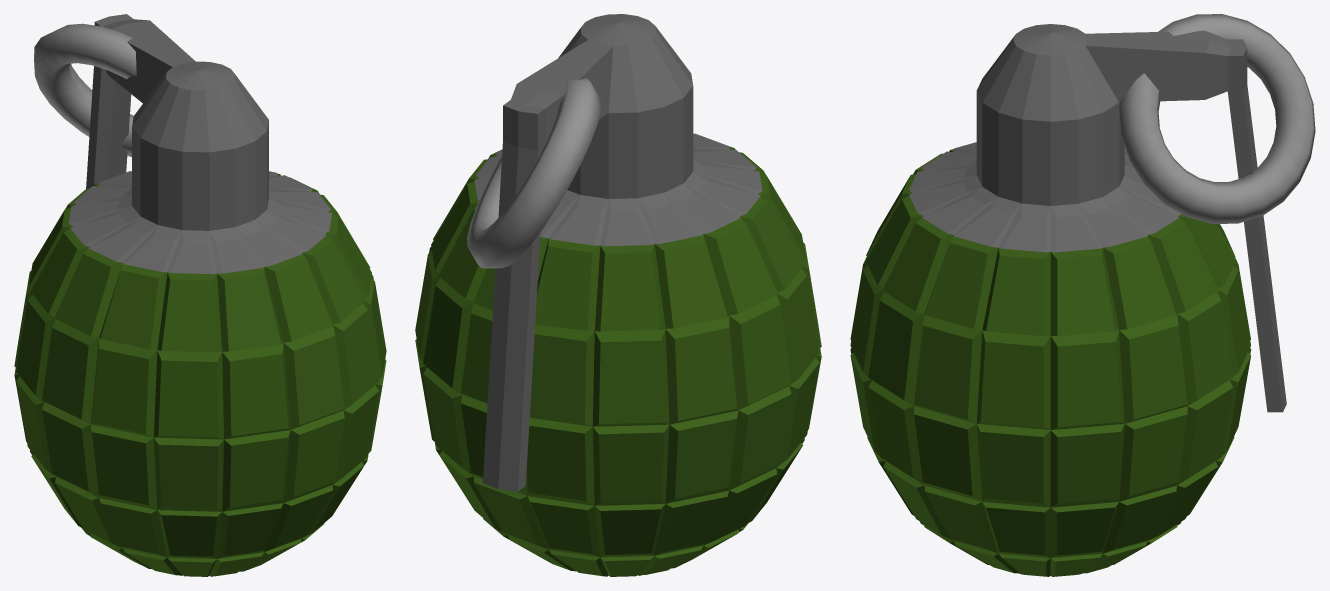
The model's file is grenade.glb.
The picture shows the model from 3 angles, left to right: view 1: azimuth 30°, elevation 25°; view 2: azimuth 150°, elevation 25°; view 3: azimuth 270°, elevation 25°; orthographic projection. The views are drawn at different scales.
Parts seen in each view (by area): view 1: Sphere, Torus; view 2: Sphere, Torus; view 3: Sphere, Torus.
Boxes of the visible parts, <box> form: Sphere: <box>14,14,386,576</box>; Torus: <box>34,23,136,156</box>; Sphere: <box>415,14,821,576</box>; Torus: <box>467,78,600,268</box>; Sphere: <box>850,24,1286,576</box>; Torus: <box>1119,14,1315,223</box>.
Bounding box in the file's own units: 2.07 × 3.01 × 2.4.
Materials: 1 (1 with a texture image).
